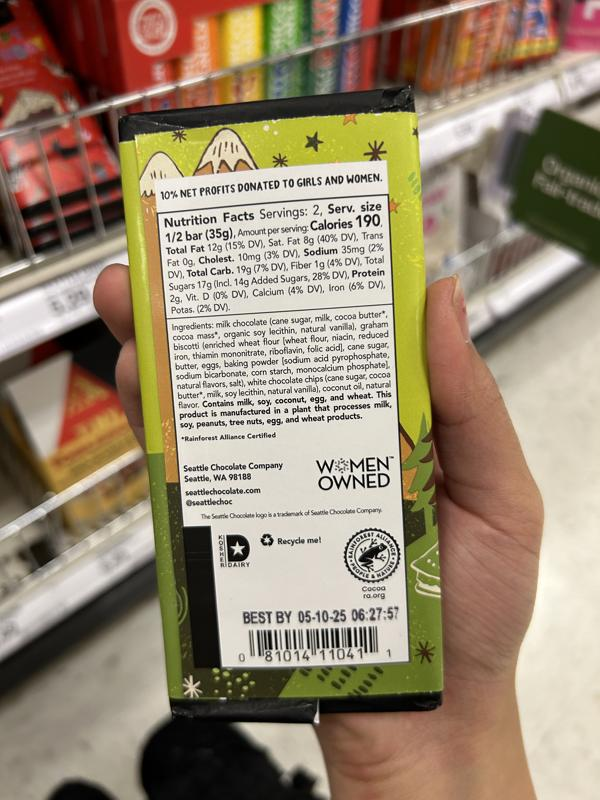ingredients: (171, 309, 396, 430)
